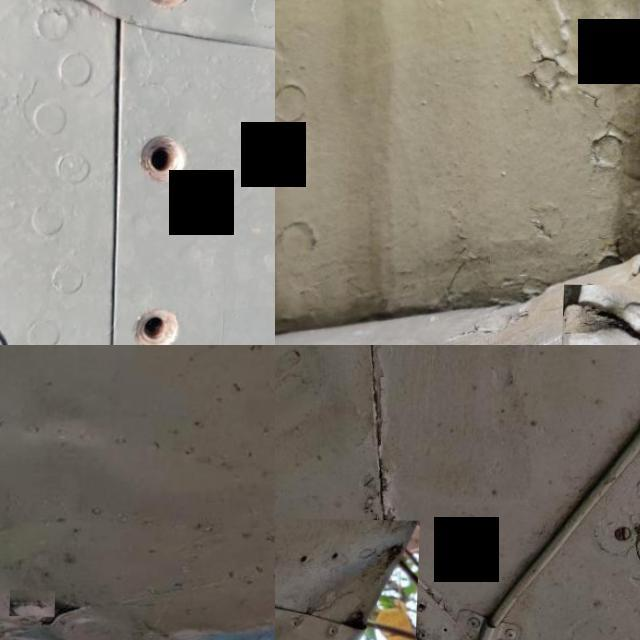Crack: (564, 283, 640, 345), (12, 589, 58, 616)
Dent: (275, 515, 422, 640)
Missing_Fastener: (112, 112, 215, 206), (100, 279, 210, 345), (114, 0, 228, 36)
